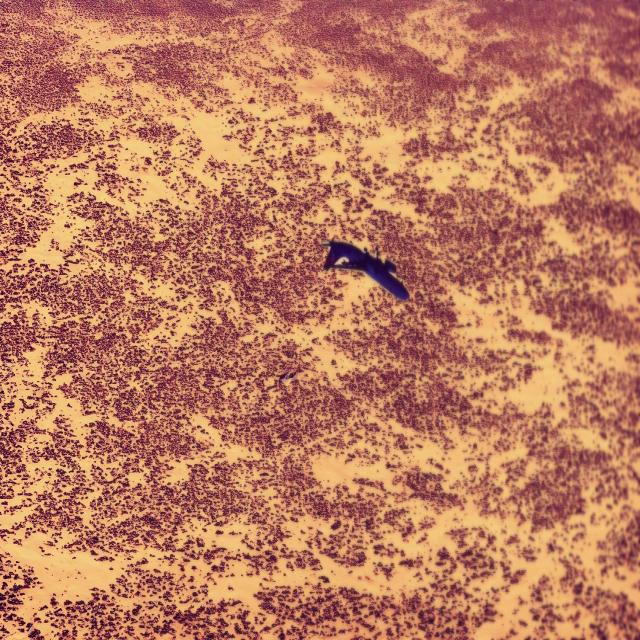airplane: (321, 238, 410, 302)
